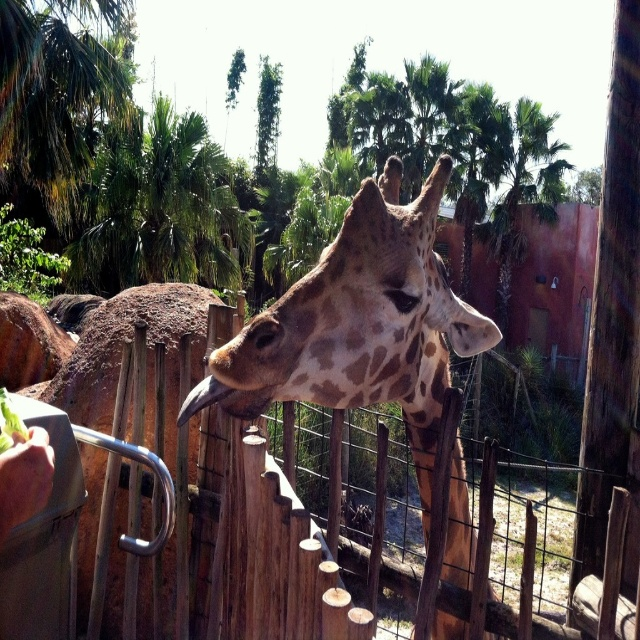Giraffe: (173, 148, 512, 639)
